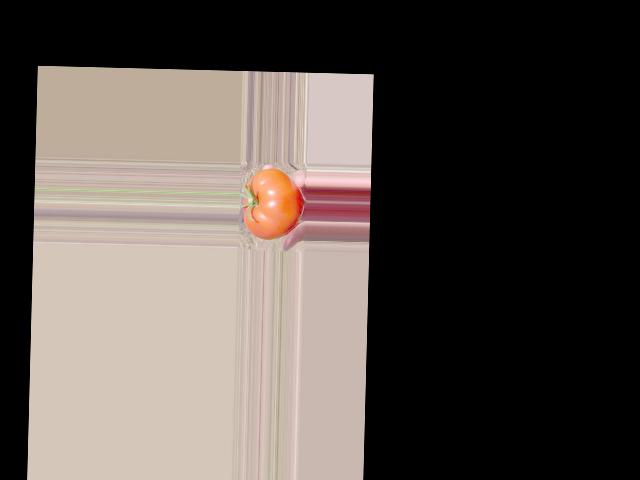tomato: (242, 167, 304, 239)
